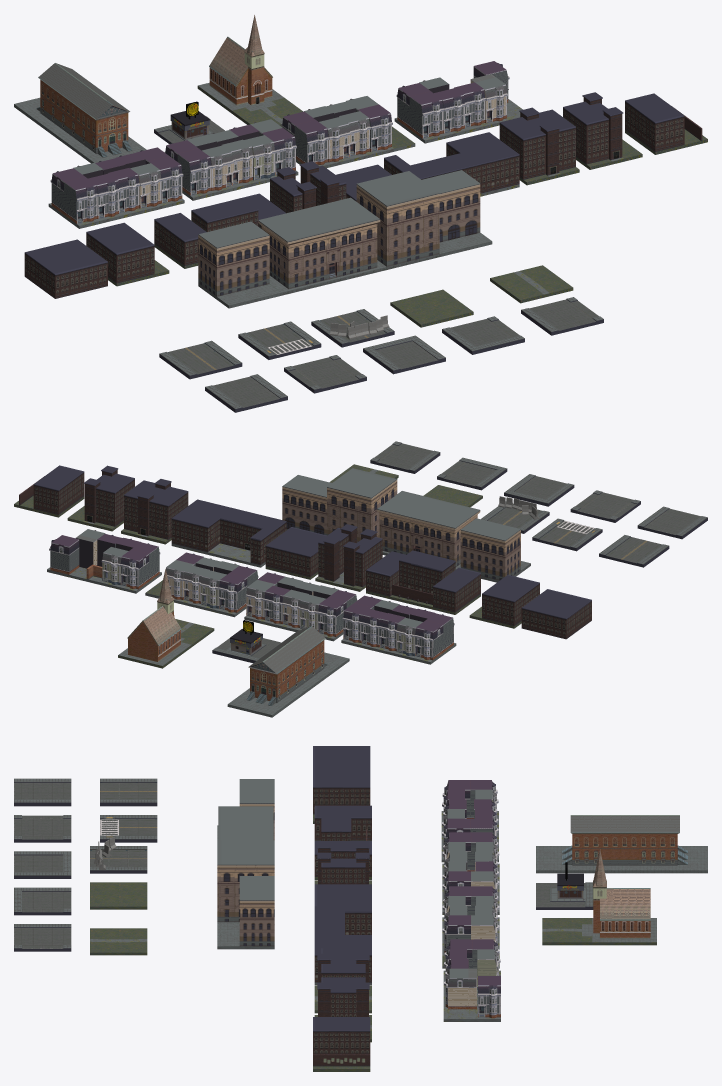
Rendered from roadlego-tiles3.glb.
The picture shows the model from 3 angles, top to bottom: view 1: azimuth 30°, elevation 25°; view 2: azimuth 150°, elevation 25°; view 3: azimuth 270°, elevation 25°; orthographic projection. The views are drawn at different scales.
Parts seen in each view (by area): view 1: beige_fullbuilding, threestoreyhouse1, threestoreyhouse2, townhall, threestoreyhousecorner, three storeyhouseend, beige_cornerpiece, beige_windows, church, towers_mid, industrial_long, industrial wall (+18 smaller); view 2: threestoreyhouse1, townhall, industrial wall, threestoreyhousecorner, industrial_long, beige_fullbuilding, threestoreyhouse2, three storeyhouseend, church, beige_cornerpiece, beige_windows, towers_meet (+17 smaller); view 3: townhall, church, threestoreyhousecorner, beige shopfront, threestoreyhouse2, industrial_warning, beige_cornerpiece, three storeyhouseend, threestoreyhouse1, industrial_long, industrial wall, towers_meet (+18 smaller).
Part boxes in pixels (x1=…): beige_fullbuilding: x1=258, y1=197, x2=386, y2=295; threestoreyhouse1: x1=48, y1=147, x2=184, y2=228; threestoreyhouse2: x1=164, y1=119, x2=298, y2=200; townhall: x1=14, y1=63, x2=146, y2=163; threestoreyhousecorner: x1=394, y1=61, x2=522, y2=143; three storeyhouseend: x1=281, y1=96, x2=415, y2=168; beige_cornerpiece: x1=356, y1=171, x2=439, y2=269; beige_windows: x1=198, y1=221, x2=281, y2=308; church: x1=197, y1=15, x2=302, y2=126; towers_mid: x1=499, y1=107, x2=579, y2=185; industrial_long: x1=384, y1=132, x2=519, y2=196; industrial wall: x1=154, y1=193, x2=285, y2=268; threestoreyhouse1: x1=341, y1=595, x2=456, y2=664; townhall: x1=227, y1=626, x2=349, y2=717; industrial wall: x1=366, y1=550, x2=480, y2=614; threestoreyhousecorner: x1=47, y1=529, x2=161, y2=593; industrial_long: x1=171, y1=499, x2=286, y2=567; beige_fullbuilding: x1=377, y1=491, x2=480, y2=569; threestoreyhouse2: x1=244, y1=572, x2=357, y2=641; three storeyhouseend: x1=145, y1=552, x2=258, y2=617; church: x1=118, y1=569, x2=214, y2=668; beige_cornerpiece: x1=327, y1=468, x2=397, y2=542; beige_windows: x1=460, y1=518, x2=530, y2=582; towers_meet: x1=315, y1=524, x2=382, y2=591; townhall: x1=536, y1=815, x2=707, y2=873; church: x1=542, y1=849, x2=656, y2=945; threestoreyhousecorner: x1=443, y1=939, x2=500, y2=1021; beige shopfront: x1=217, y1=876, x2=274, y2=949; threestoreyhouse2: x1=442, y1=832, x2=499, y2=914; industrial_warning: x1=313, y1=1017, x2=370, y2=1071; beige_cornerpiece: x1=217, y1=840, x2=274, y2=922; three storeyhouseend: x1=442, y1=886, x2=499, y2=968; threestoreyhouse1: x1=441, y1=780, x2=498, y2=862; industrial_long: x1=314, y1=906, x2=371, y2=985; industrial wall: x1=314, y1=805, x2=371, y2=879; towers_meet: x1=314, y1=841, x2=371, y2=884.
Size of the model in its own units: 223 by 29.63 by 218.
Materials: 41 (41 with a texture image).
